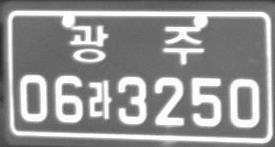0: (228, 77, 260, 127), (18, 73, 47, 122)
2: (154, 76, 184, 126)
3: (117, 76, 147, 125)
5: (190, 77, 222, 127)
6: (54, 74, 83, 123)
광주_D: (69, 25, 204, 65)
라: (88, 79, 112, 119)
